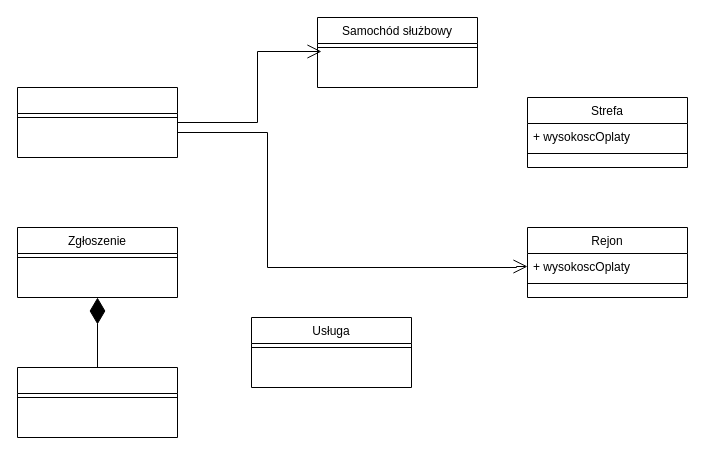
Some shapes in this 705 by 455 pixel diagram are drawn without their labels. The centre of each missing label's shape, as x and y in pixels:
"Klient" goes at [97,402].
"Serwisant" goes at [97,122].
